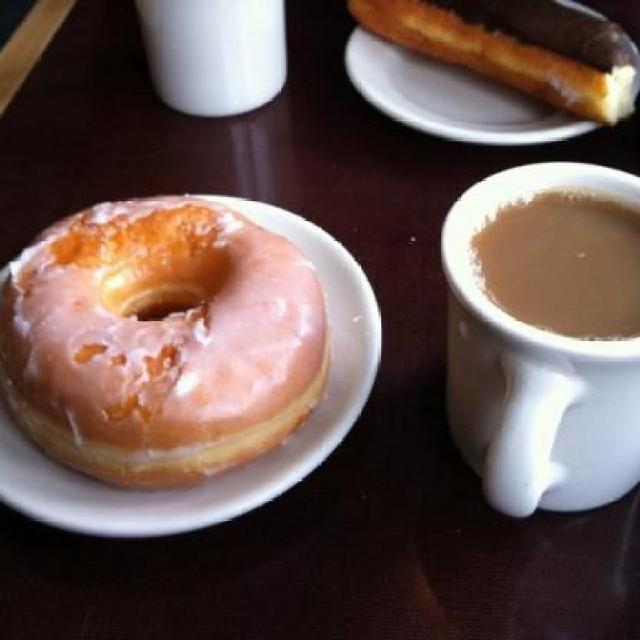Donuts: (12, 196, 356, 493)
